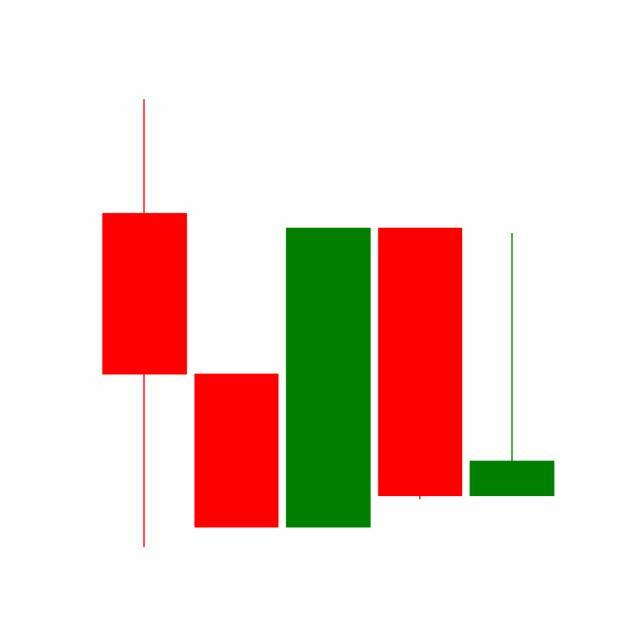Marubozu: (374, 225, 468, 504)
